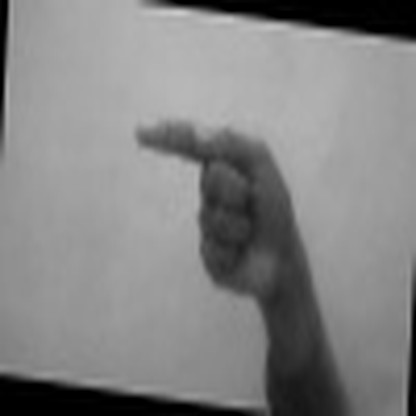g: (95, 114, 342, 294)
